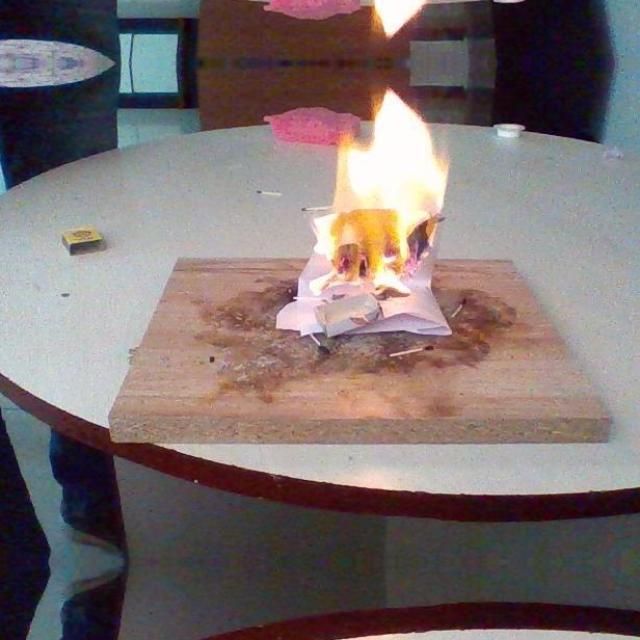smoke: (302, 84, 454, 290), (302, 0, 455, 43)
